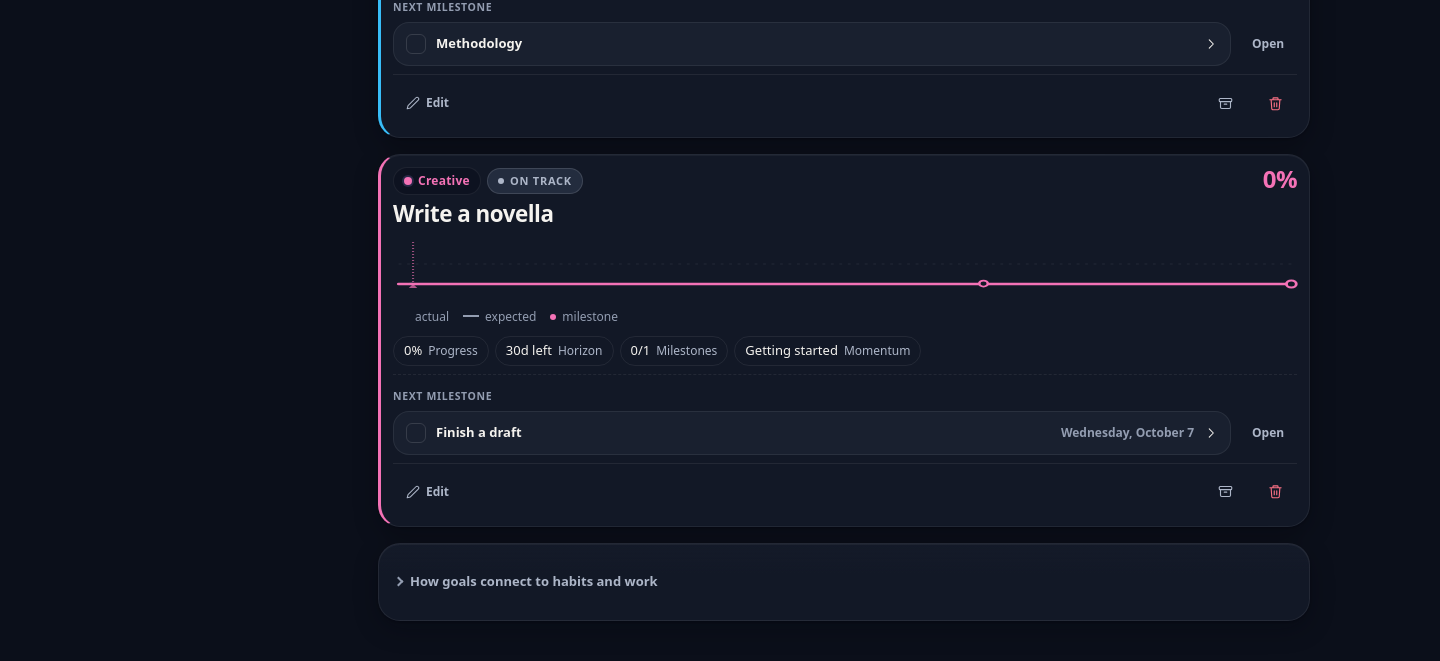
it: Goals workspace — list-first › goal management works without the visual graph (complete next milestone)
(page scrolled)
Click the button "Finish a draft Wednesday, October 7": [479, 432] box 393,411 -> 1231,455
(page scrolled)
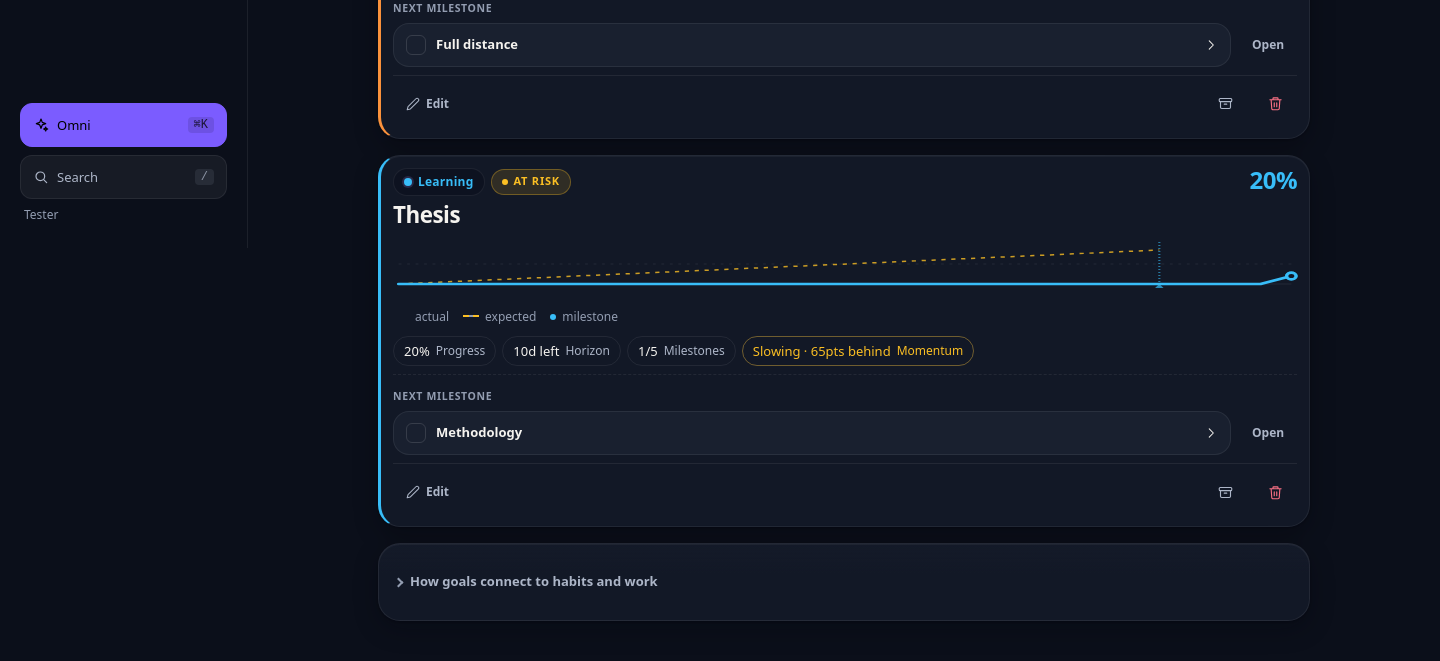
Expected: the link "Write a novella" is gone
